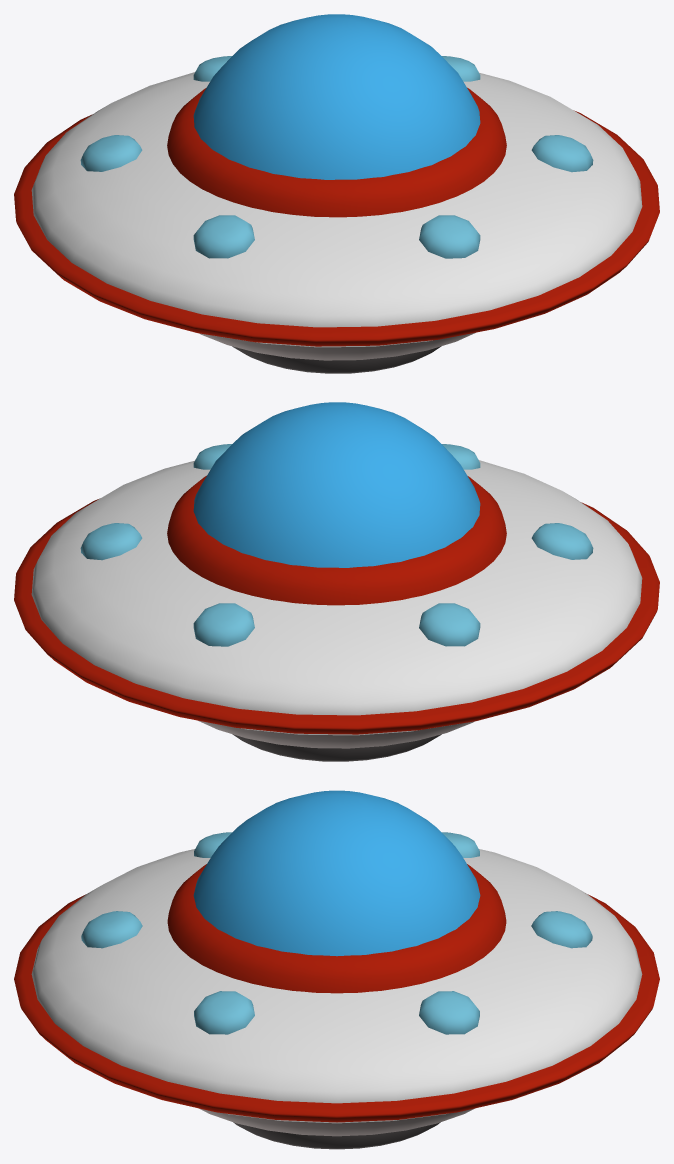
The picture shows the model from 3 angles, top to bottom: view 1: azimuth 30°, elevation 25°; view 2: azimuth 150°, elevation 25°; view 3: azimuth 270°, elevation 25°; orthographic projection.
Parts seen in each view (by area): view 1: ufo_0; view 2: ufo_0; view 3: ufo_0.
Boxes of the visible parts, left/top/right/bottom form: ufo_0: left=14, top=14, right=659, bottom=373; ufo_0: left=14, top=402, right=659, bottom=761; ufo_0: left=14, top=790, right=659, bottom=1149.
Bounding box in the file's own units: 4.21 × 2.14 × 4.21.
